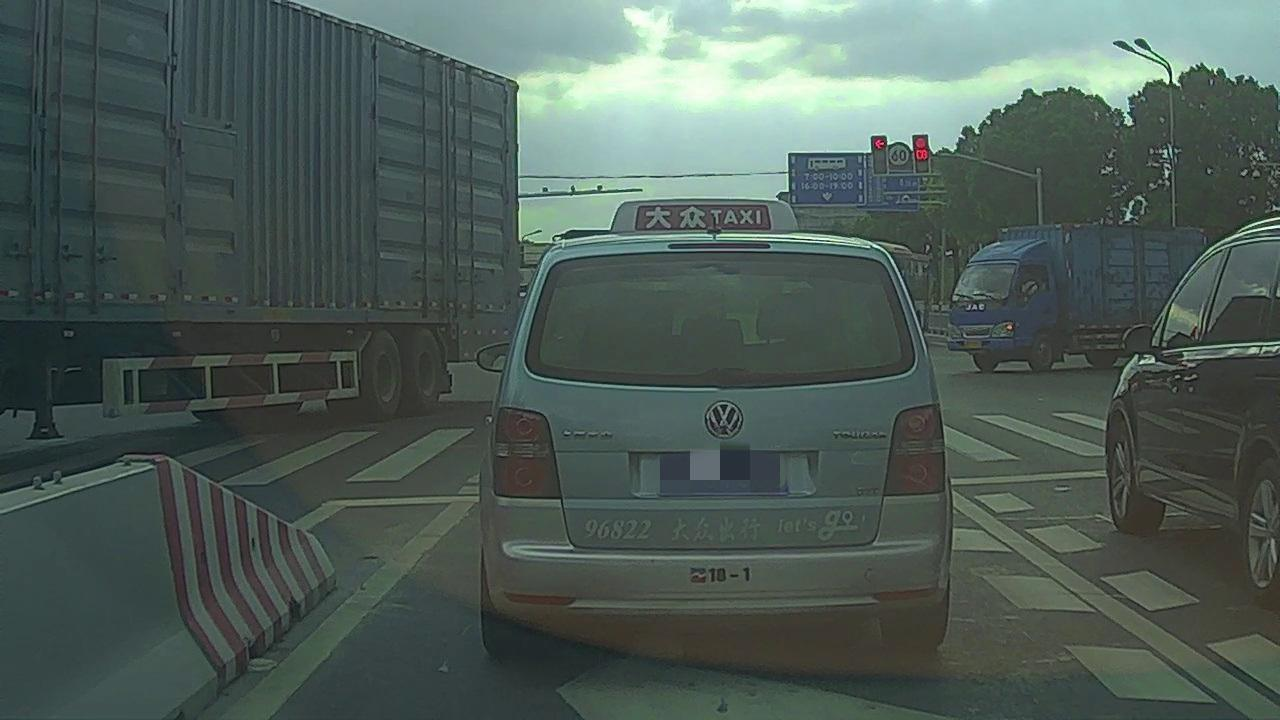traffic_light: (912, 135, 928, 172), (871, 136, 886, 174)
